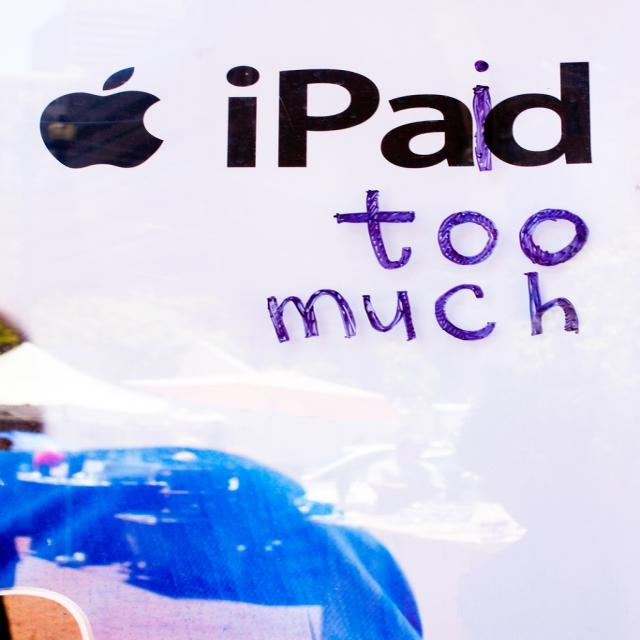apple: (29, 61, 172, 174)
